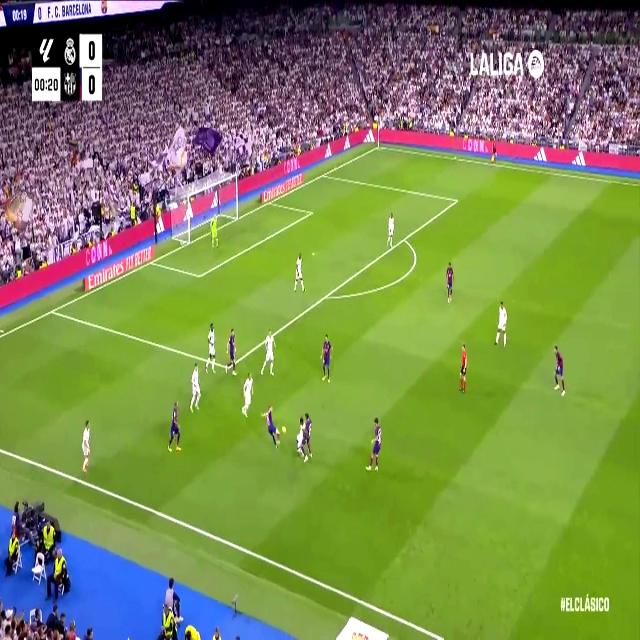bigarea_bottom_outter: (48, 303, 56, 318)
bigarea_top_inner: (453, 193, 459, 207)
bigarea_top_outter: (320, 168, 327, 180)
bottom_arc_area_intersection: (322, 287, 331, 304)
corner: (374, 142, 382, 150)
midline_top_intersection: (637, 178, 640, 194)
smallarea_bottom_outter: (148, 255, 156, 269)
smallarea_top_inner: (308, 207, 314, 217)
top_arc_area_intersection: (400, 232, 408, 246)
